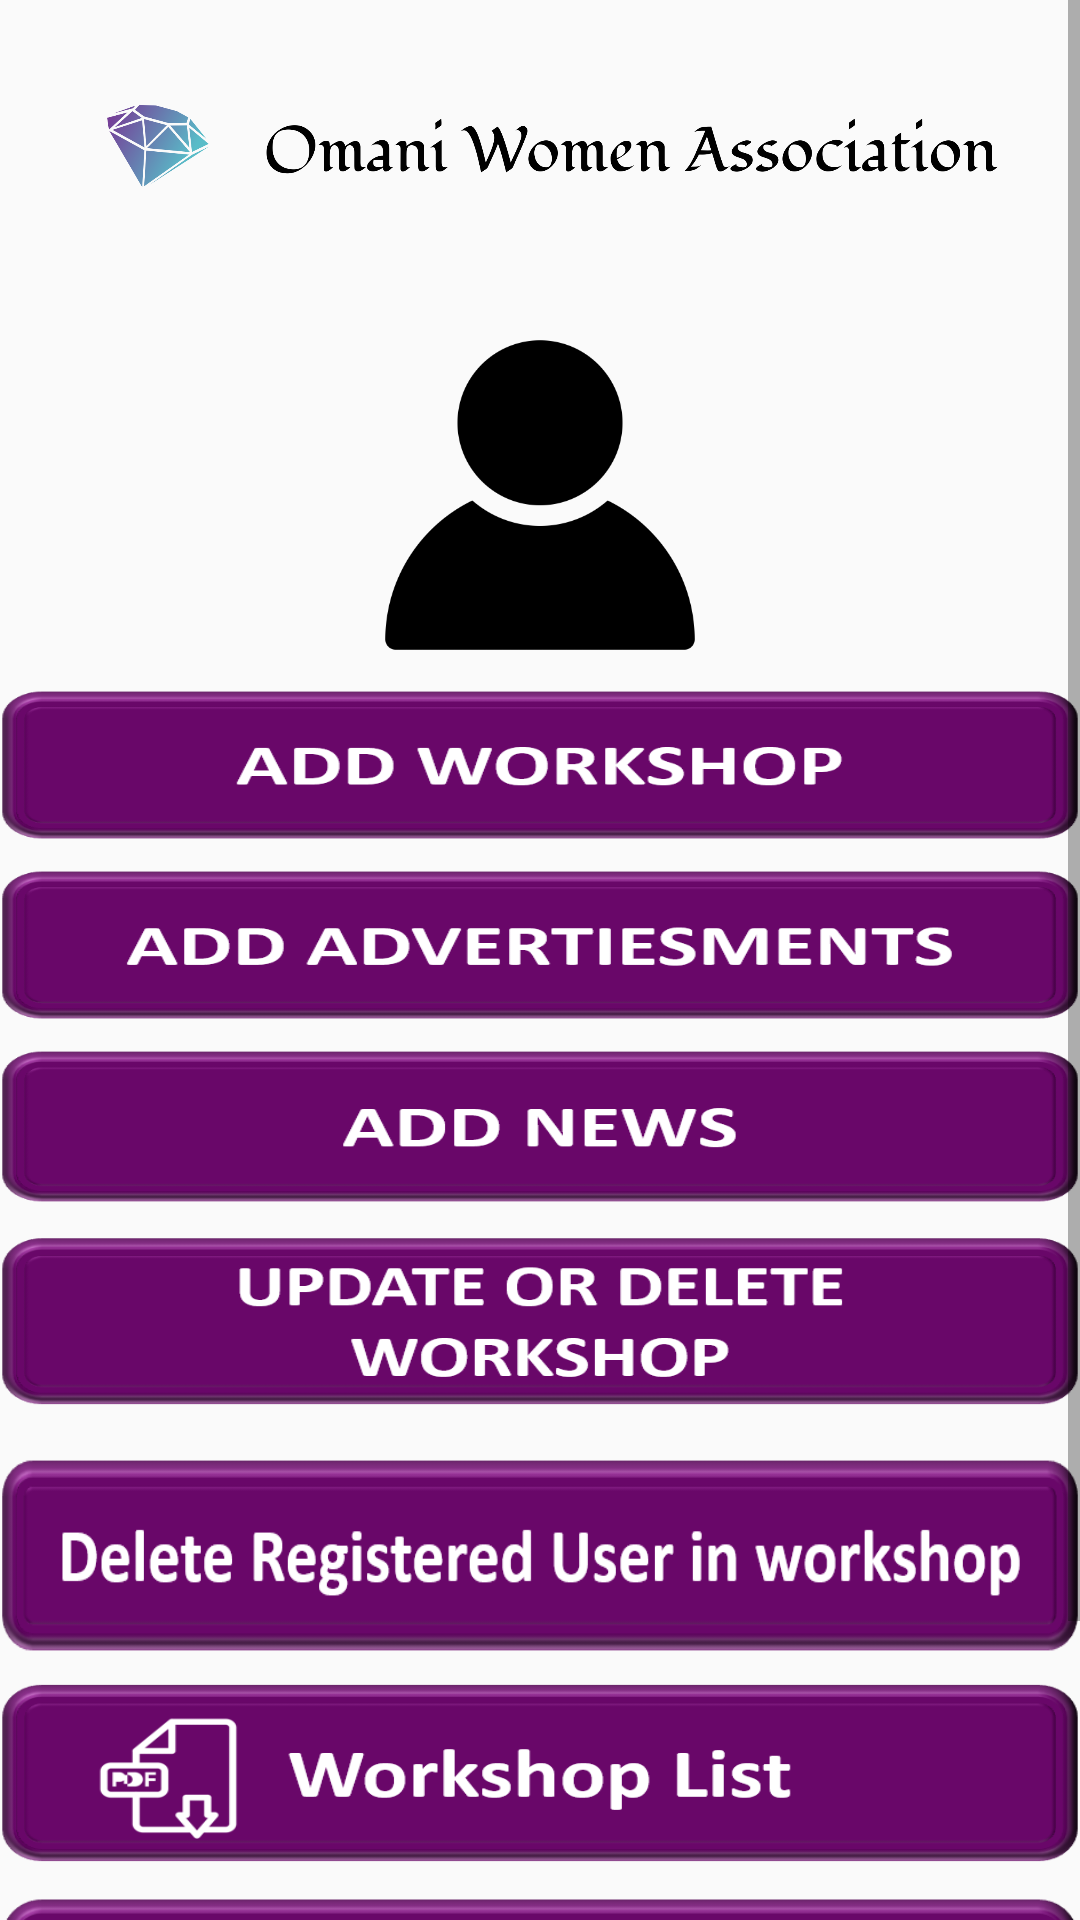

Point at icon controls on the screen. Image size 1080*1920, points as (x=x, y=y).
admin: (x=540, y=495)
